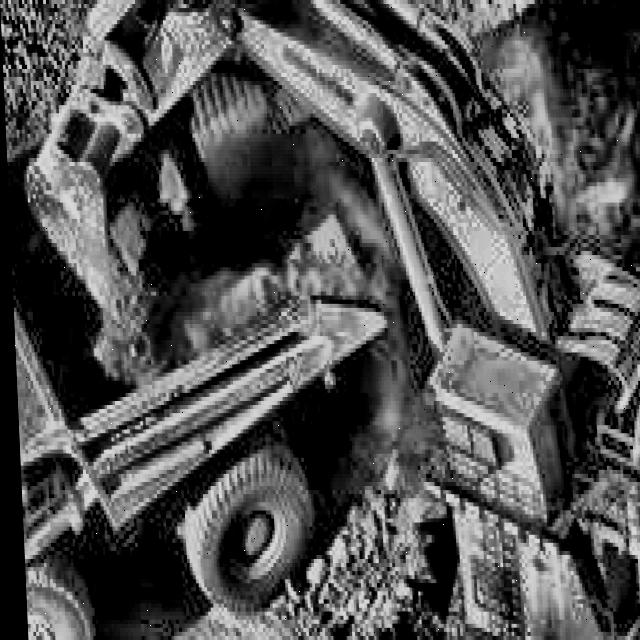dump_truck: (5, 129, 384, 640)
excavator: (11, 0, 640, 640)
